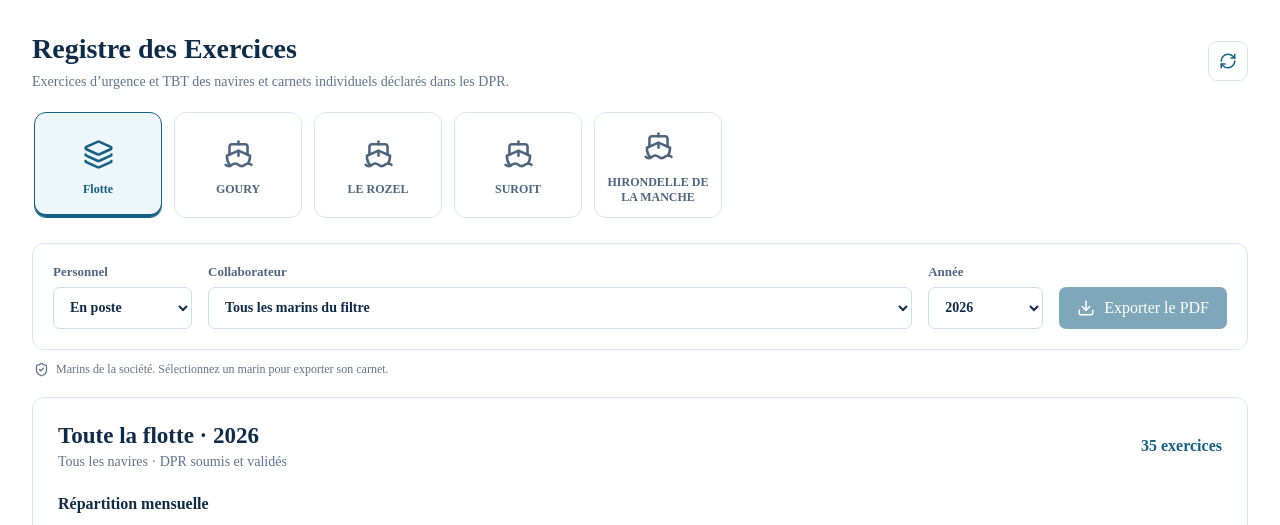
Test: emergency register interface › shows one button per vessel in descending length order and filters with the retained vessel ID
This screenshot has width=1280, height=525.
Expected: the heading "Toute la flotte · 2026" is shown, [58,423,287,449]
Click the button "HIRONDELLE DE LA MANCHE".
click(658, 165)  # box [594,112,722,218]
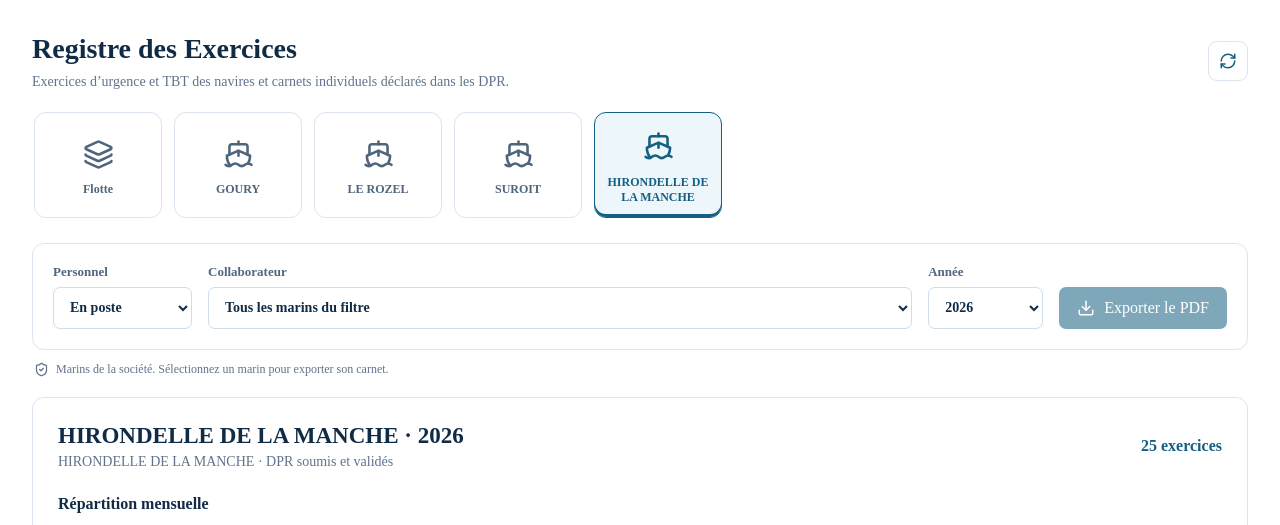
Expected: the heading "HIRONDELLE DE LA MANCHE · 2026" is shown, [58,423,464,449]
